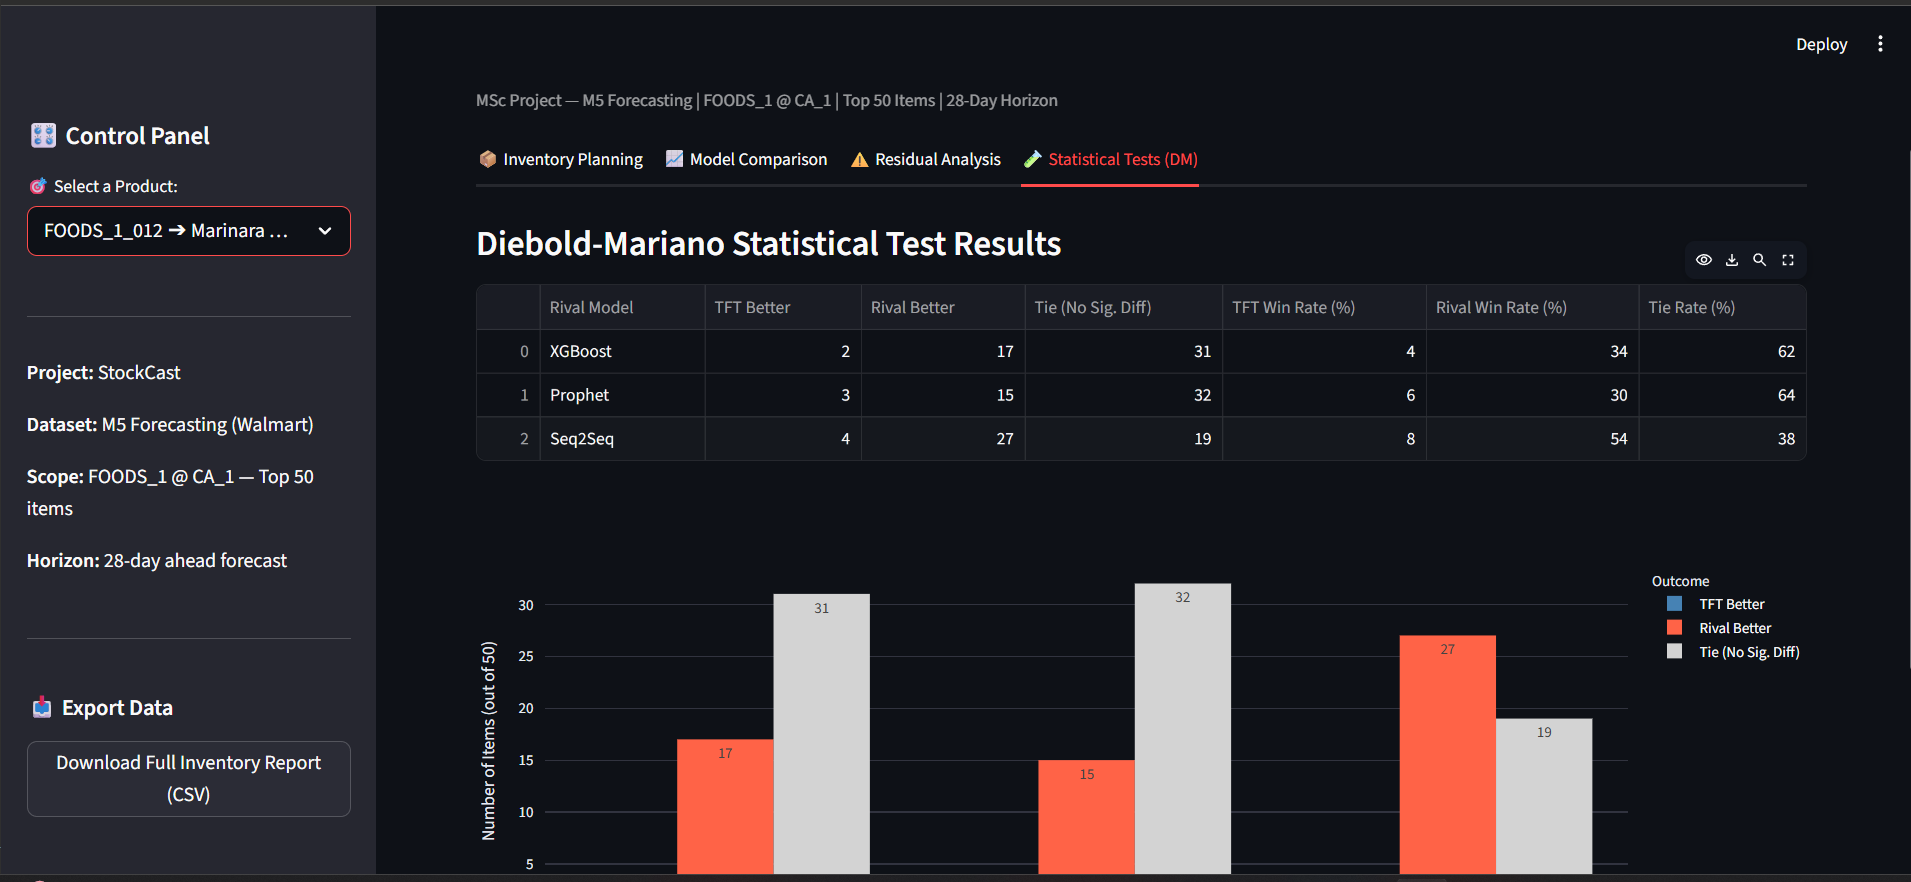

Layout of this report page (visuals, bound fields, positions):
{"tool":"powerbi","page":{"name":"Statistical Validation","canvas":[1280,720],"ordinal":4},"visuals":[{"type":"textbox","box":[9.8,0,629.8,101.5],"z":0},{"type":"textbox","box":[0,118.2,639.4,149.6],"z":1000},{"type":"tableEx","title":"DM Test Results Summary (50 Items, α=0.05)","fields":{"Values":["dm_test_results.Rival Model","dm_test_results.TFT Better","dm_test_results.Rival Better","dm_test_results.Tie (No Sig. Diff)","dm_test_results.TFT Winrate(%)","dm_test_results.Rival Win Rate(%)","dm_test_results.Tie Rate(%)"]},"box":[670.8,118.2,609.3,149.6],"z":2000},{"type":"hundredPercentStackedBarChart","title":"Win Rate Distribution (% of 50 Items)","fields":{"Category":["dm_test_results unpivoted.Rival Model"],"Y":["Sum(dm_test_results unpivoted.Item Count)"],"Series":["dm_test_results unpivoted.Outcome"]},"box":[9.8,281.3,629.8,271.5],"z":3000},{"type":"textbox","box":[670.8,562.2,609.3,158],"z":4000},{"type":"textbox","box":[9.8,562.5,629.8,157.7],"z":5000},{"type":"clusteredColumnChart","title":"Model Accuracy Across Forecast Scenarios","fields":{"Category":["scenario_metrics.Scenario"],"Y":["Sum(scenario_metrics.MASE)"],"Series":["scenario_metrics.Model"]},"box":[671,281,609,271],"z":6000}]}

Visuals, with their boxes on the page's 1280x720 design canvas (x1, y1, x2, y2). These are canvas units, not pixel positions in the 1911x882 screenshot, which may show the page scaled, cropped or inside an application window:
textbox: 10 0 640 102
textbox: 0 118 639 268
"DM Test Results Summary (50 Items, α=0.05)" tableEx: 671 118 1280 268
"Win Rate Distribution (% of 50 Items)" hundredPercentStackedBarChart: 10 281 640 553
textbox: 671 562 1280 720
textbox: 10 562 640 720
"Model Accuracy Across Forecast Scenarios" clusteredColumnChart: 671 281 1280 552
